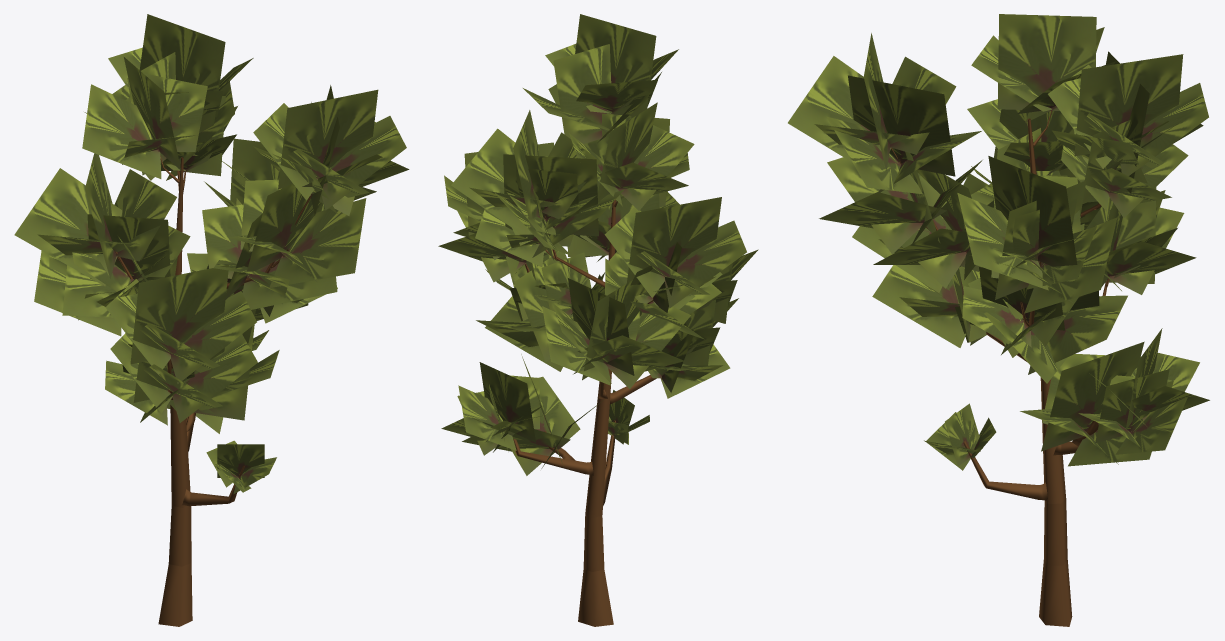
Rendered from Young_Pine_Tree_2.fbx.
3 renders of one model, left to right at view 1: azimuth 30°, elevation 25°; view 2: azimuth 150°, elevation 25°; view 3: azimuth 270°, elevation 25°, orthographic. The views are drawn at different scales.
Parts seen in each view (by area): view 1: Young_Pine_Tree_2; view 2: Young_Pine_Tree_2; view 3: Young_Pine_Tree_2.
Part boxes in pixels (box(x1,y1,x2,y2)): Young_Pine_Tree_2: box(14, 14, 409, 626); Young_Pine_Tree_2: box(438, 14, 758, 626); Young_Pine_Tree_2: box(788, 14, 1209, 626).
Size of the model in its own units: 97.73 by 163 by 104.
2 materials, 2 textured.
